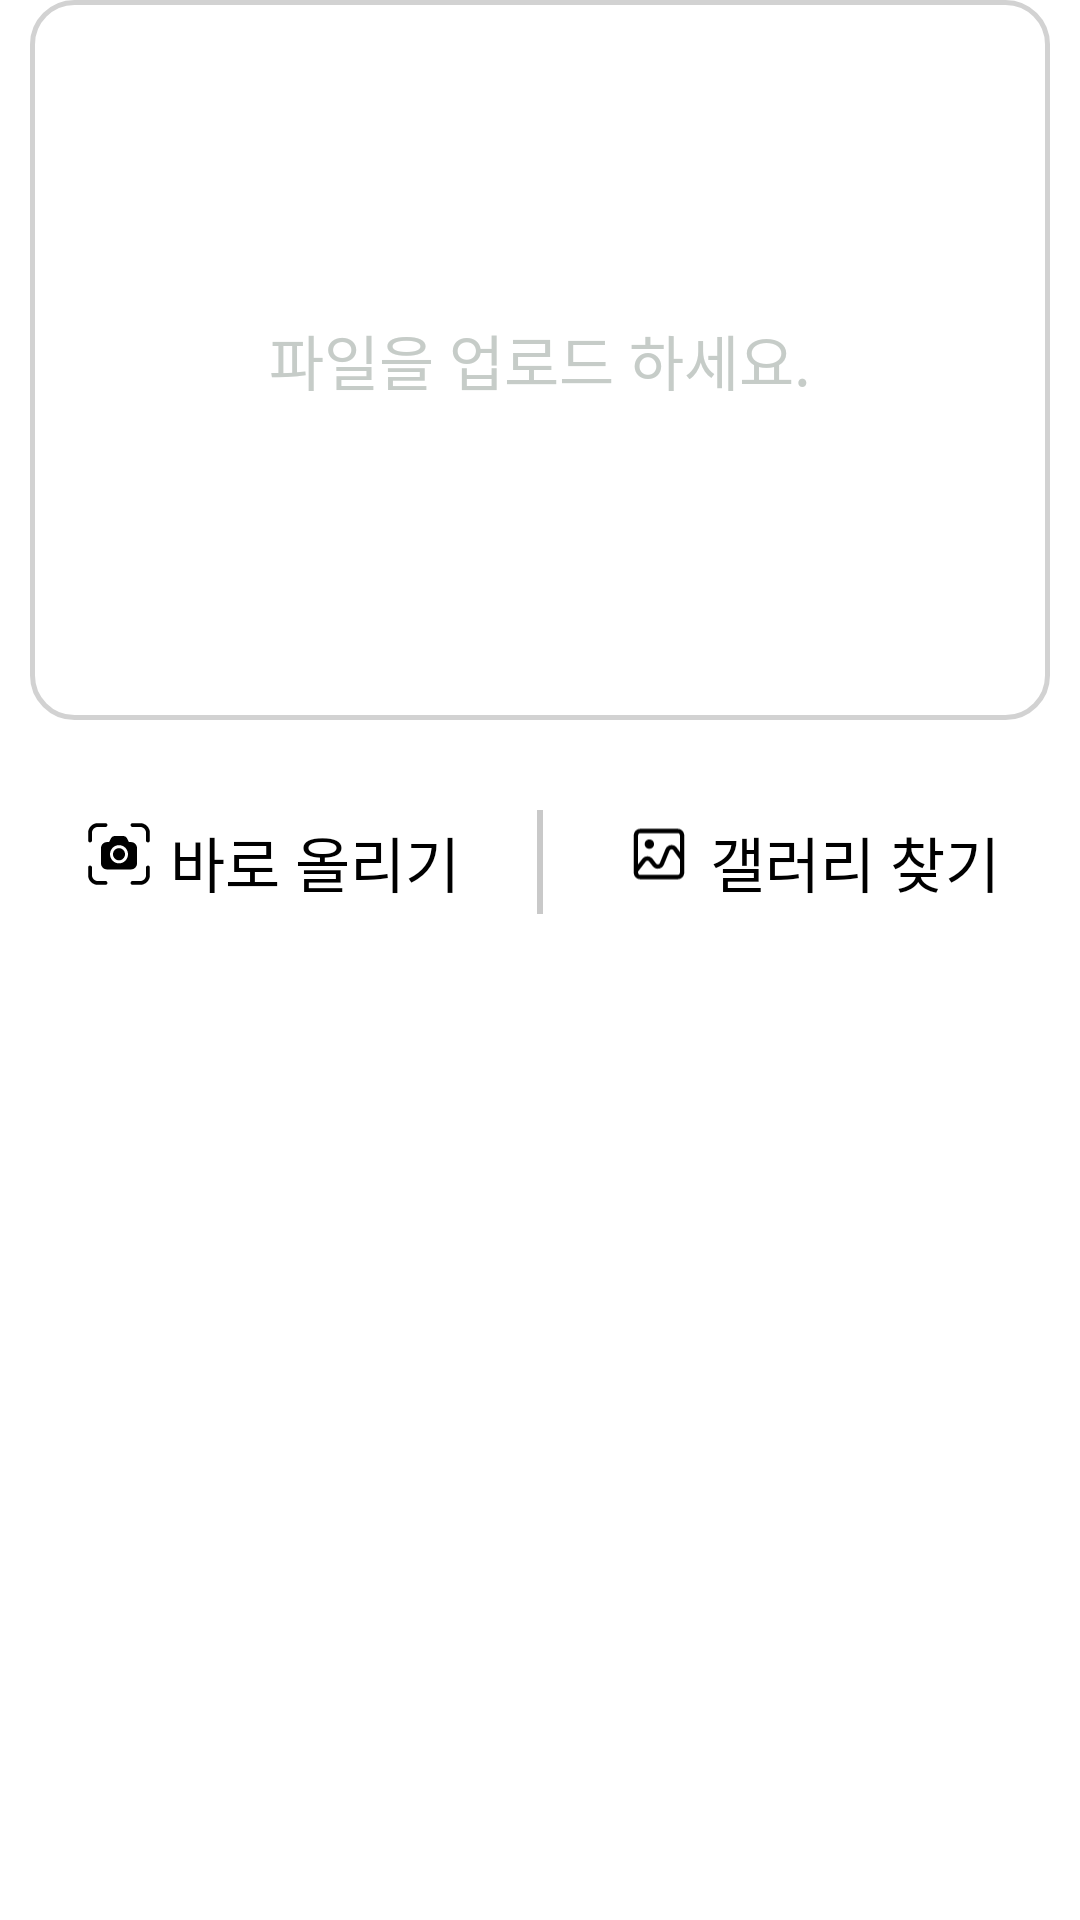

Icons on this 1080 x 1920 Android screen, each with the point to tap as (x=x, y=y):
camera: (x=119, y=854)
gallery: (x=659, y=854)
